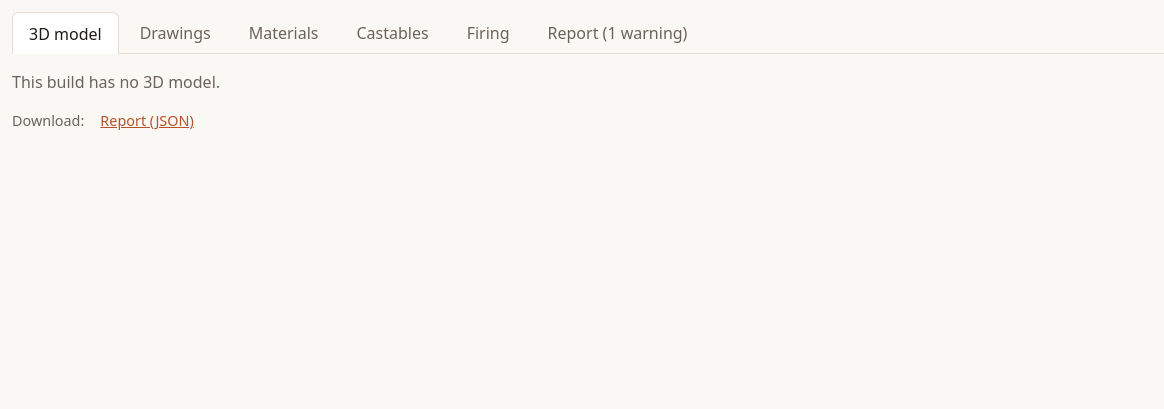
Scenario: BuildPanel › has a tab for the castables when the design mixes its own
Click the tab "Castables" at [393, 32], box [340,12,446,53]
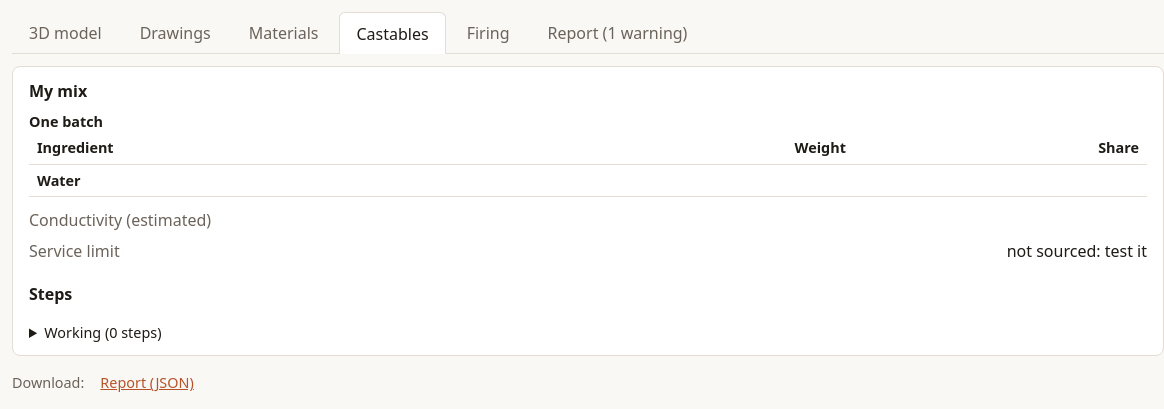
Expected: the element "My mix" is shown
